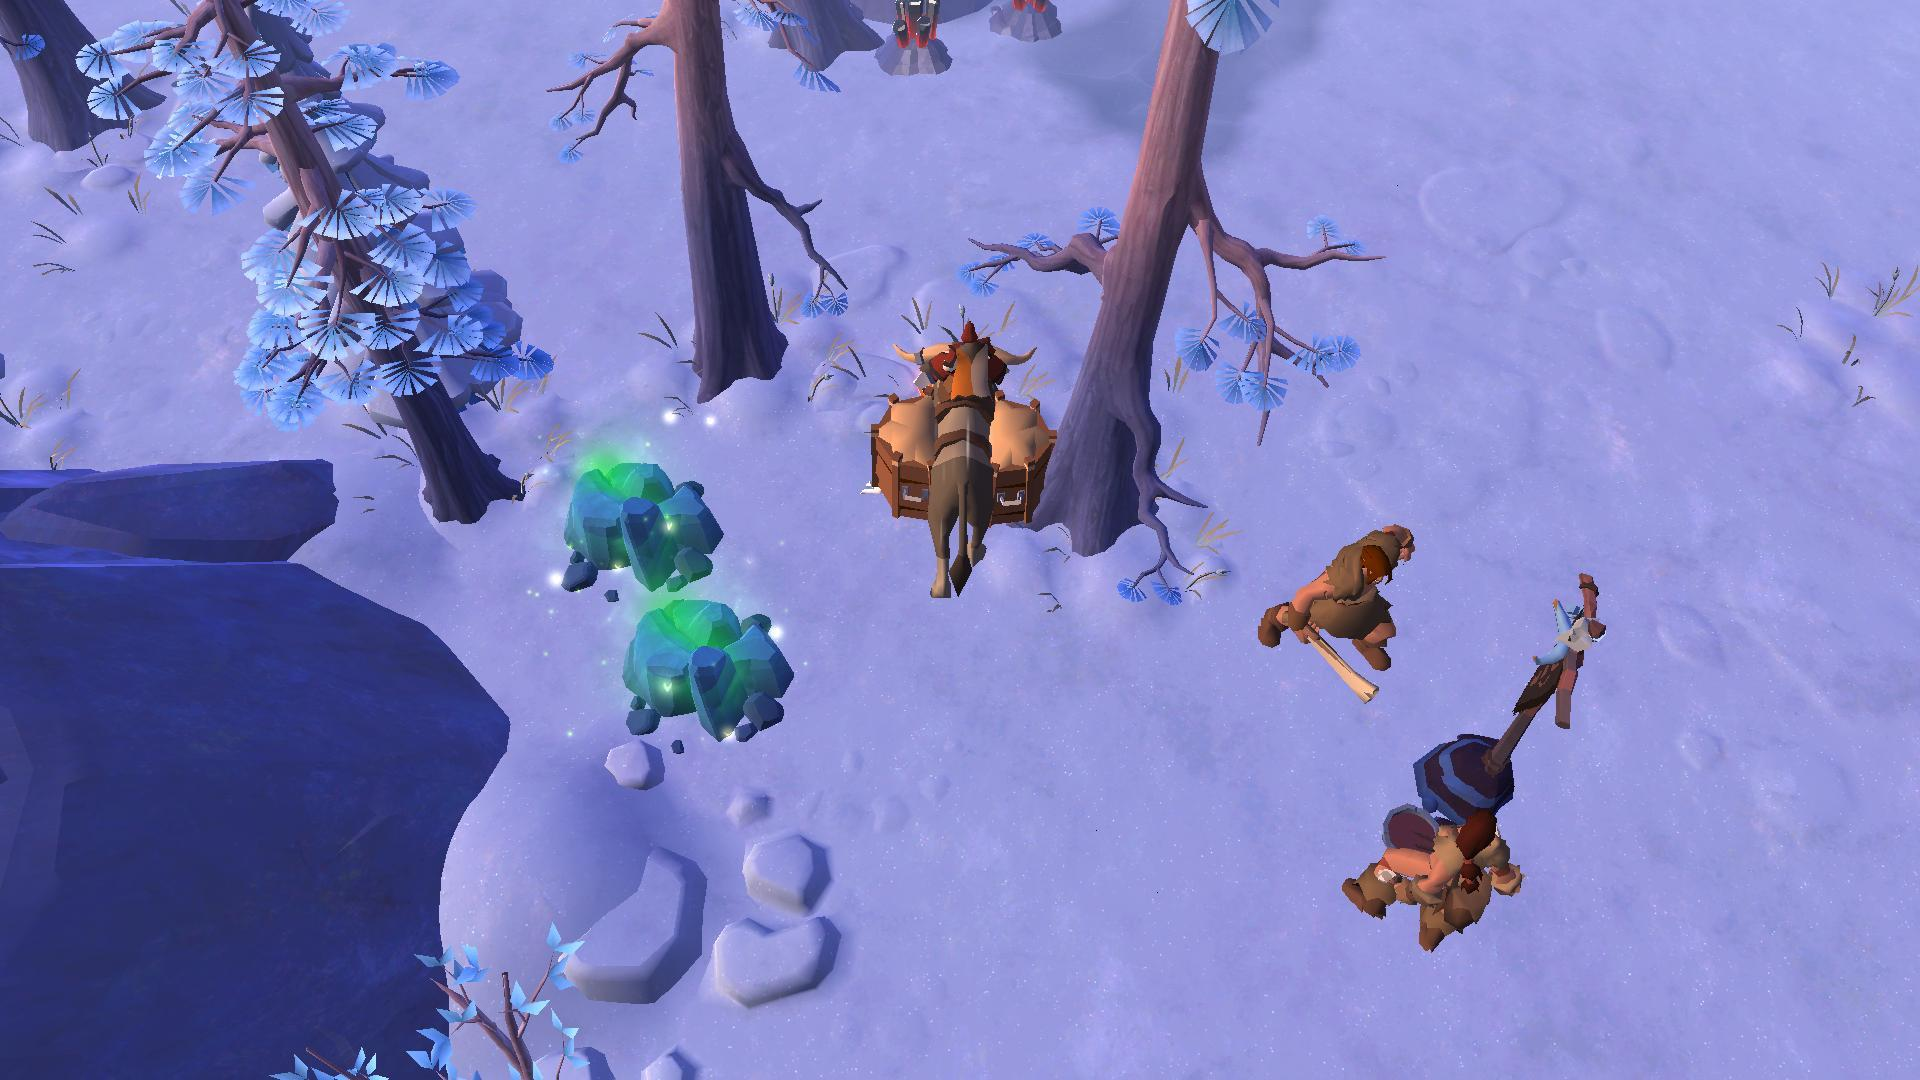enemy_factionKeeper: (1323, 794, 1526, 961), (1263, 518, 1408, 676)
ore_t5: (889, 0, 948, 61)
rock_t4: (618, 600, 800, 737), (556, 447, 728, 578)
